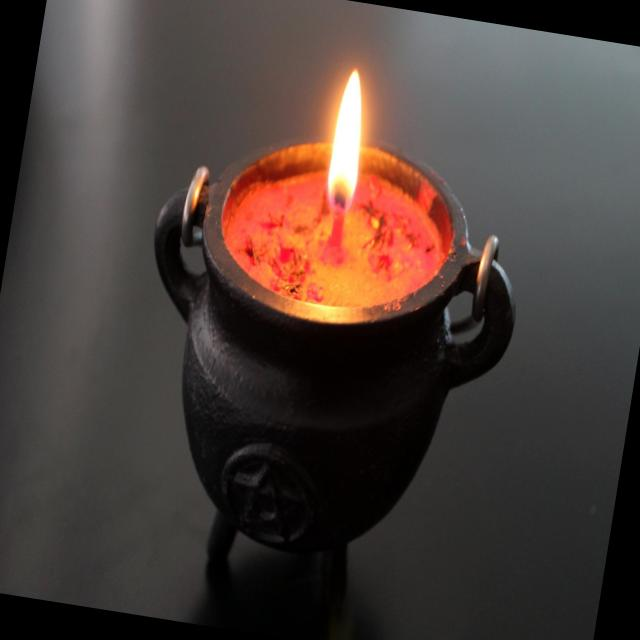Fire_Save: (108, 39, 552, 584), (214, 50, 473, 324), (312, 65, 376, 266)
